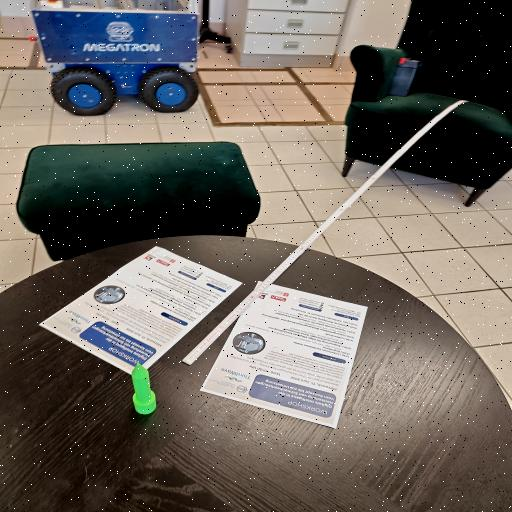Probe-Detection: (131, 363, 156, 414)
